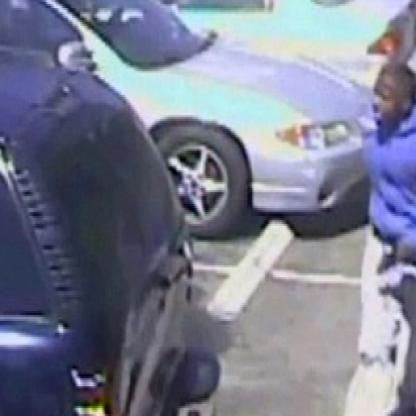gun: (365, 228, 401, 285)
